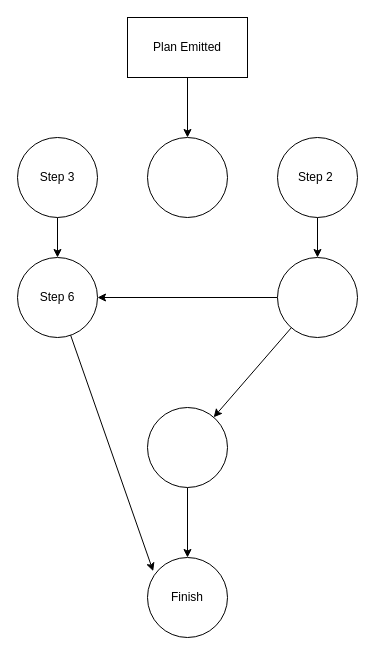
The diagram is 375 pixels wide and 655 high, and some of its shapes have lost their labels. Here are the shapes that lost their labels. From the top down, the centre of each, then its label:
At pixel 187 177: "Step 1".
At pixel 317 297: "Step 5".
At pixel 187 447: "Step 7".
